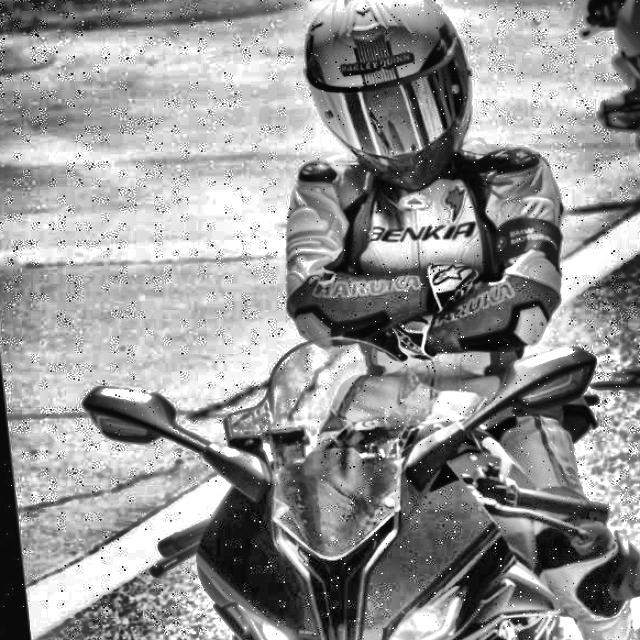Helmet: (291, 0, 490, 213)
